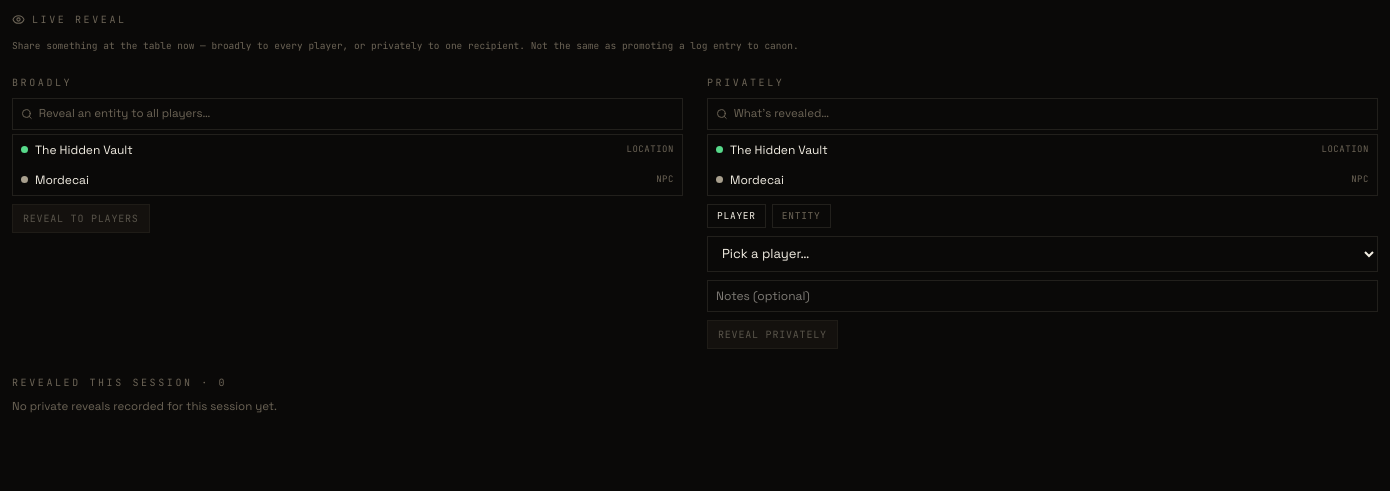
Test: SessionRevealPanel › switches to an entity-recipient typeahead when Entity is toggled
The image size is (1390, 491).
Click the button "Entity".
click(801, 216)  # box [772,204,831,228]
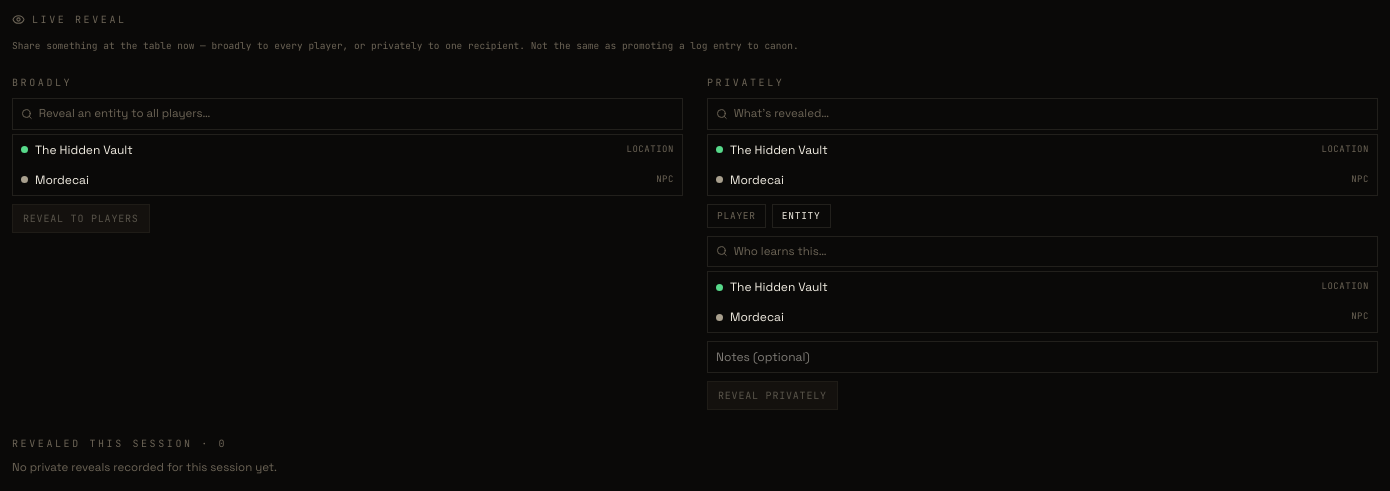
Expected: the field with placeholder "Who learns this…" is shown, [734,237,1369,266]
